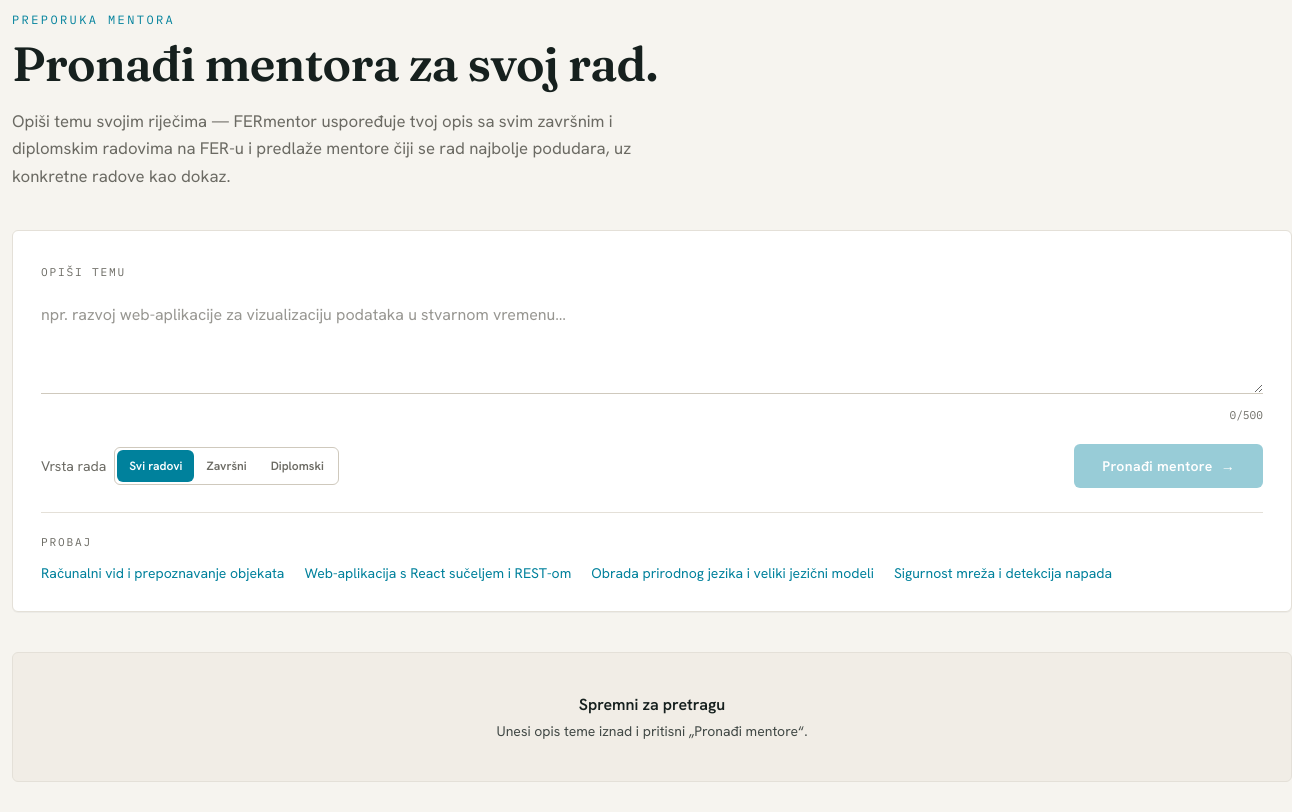
Test: SearchPage › submit is disabled until a query is typed
expect the button "Pronađi mentore →" is disabled: met, box [1074,444,1263,488]
Type "računalni vid" into the text box labelled "Opiši temu" at (652, 345), box [41,295,1263,394]
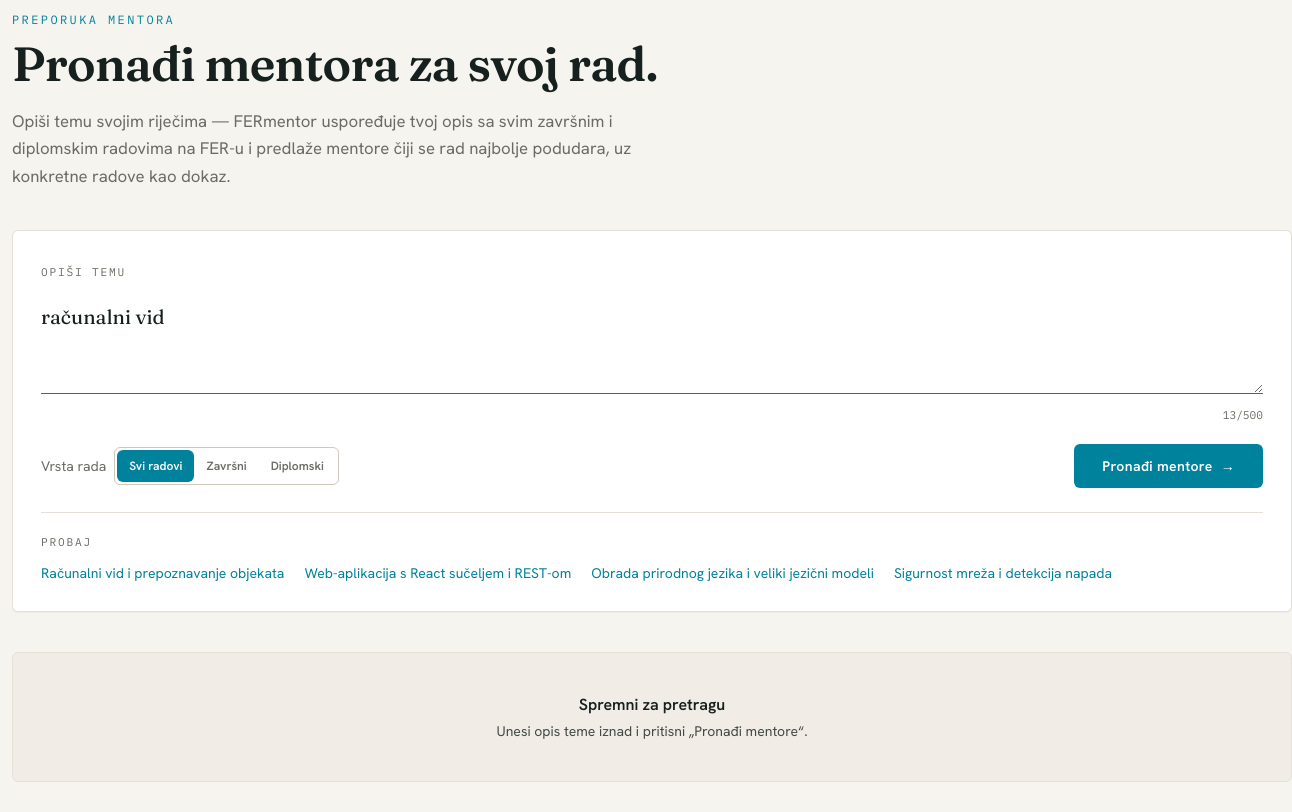
expect the button "Pronađi mentore →" is enabled: met, box [1074,444,1263,488]
